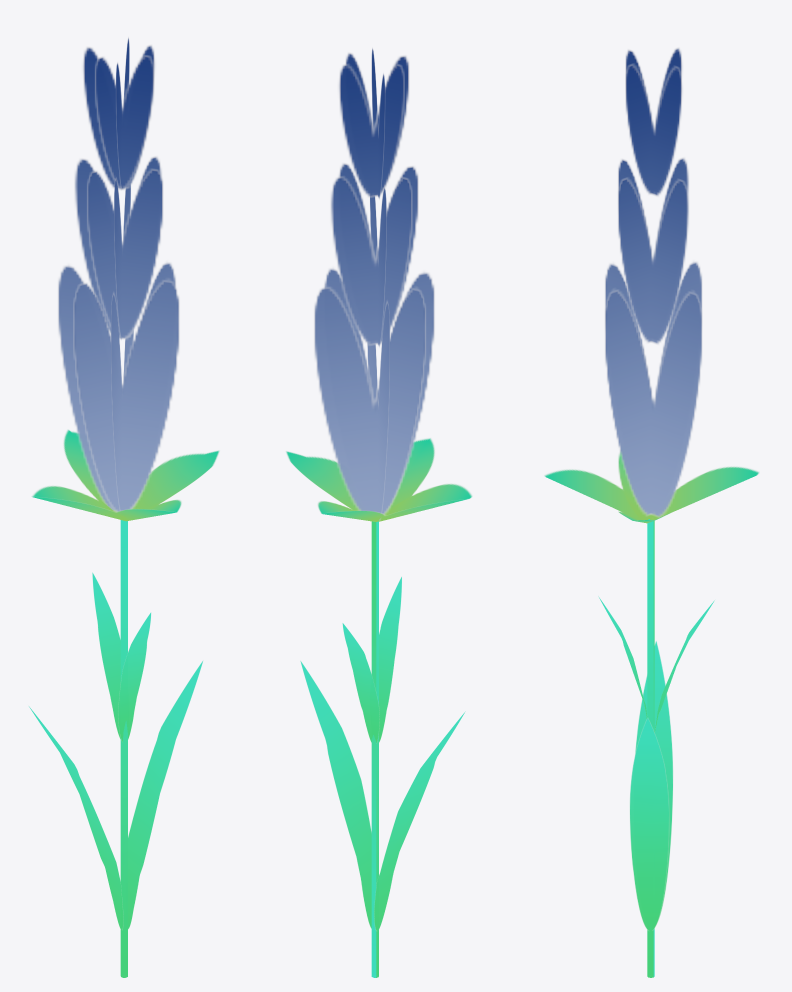
Rendered from Flowers_n03_21.glb.
The picture shows the model from 3 angles, left to right: view 1: azimuth 30°, elevation 25°; view 2: azimuth 150°, elevation 25°; view 3: azimuth 270°, elevation 25°; orthographic projection.
Visible parts, largest first — view 1: polySurface623; view 2: polySurface623; view 3: polySurface623.
Part boxes in pixels (x1,y1,x2,y2): polySurface623: (29, 37, 219, 977); polySurface623: (285, 47, 472, 977); polySurface623: (544, 47, 759, 977).
Size of the model in its own units: 0.2859 by 1.16 by 0.2858.
1 material, 1 textured.
